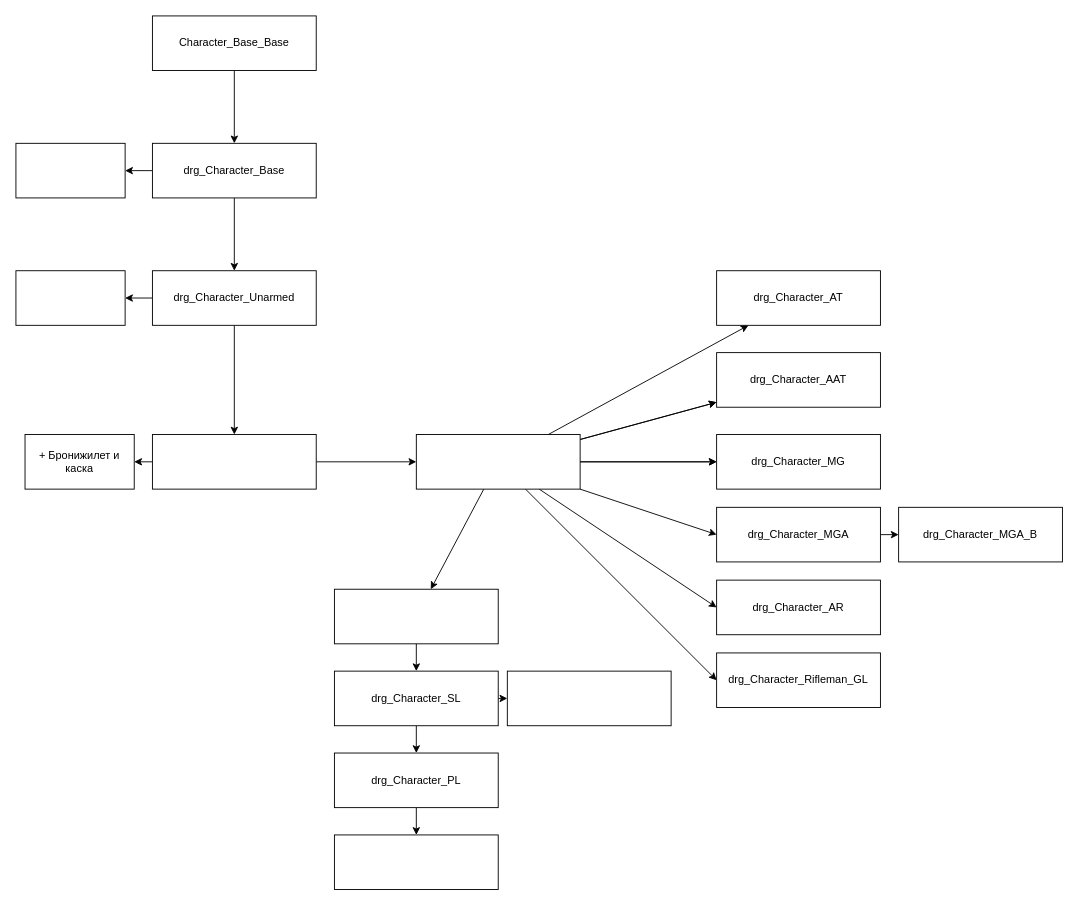
Some shapes in this 1078 by 905 pixel diagram are drawn without their labels. Each missing label, with the centre of its shape:
drg_Character_Armored: the point at 234,461
drg_Character_Officer: the point at 416,862
drg_Character_Rifleman: the point at 497,461
drg_Character_SeniorRifleman: the point at 416,616
drg_Character_SL_GL: the point at 588,698
Медицина, Карта, Инструменты, Играбельный: the point at 70,297
Принадлежность: the point at 70,170
